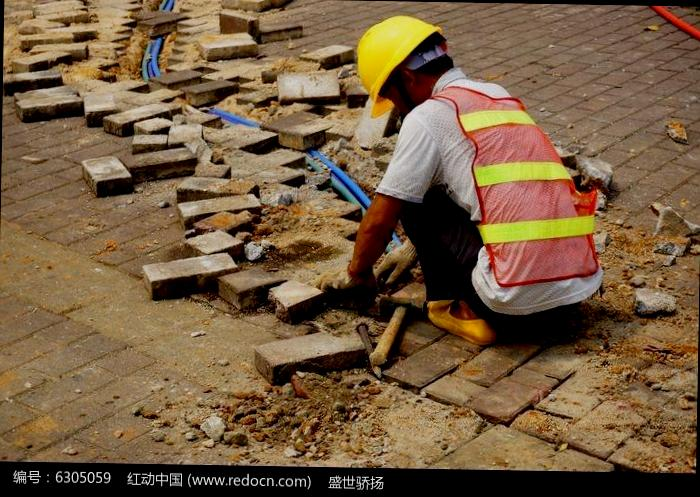helmet: (350, 10, 448, 123)
person: (326, 11, 616, 342)
